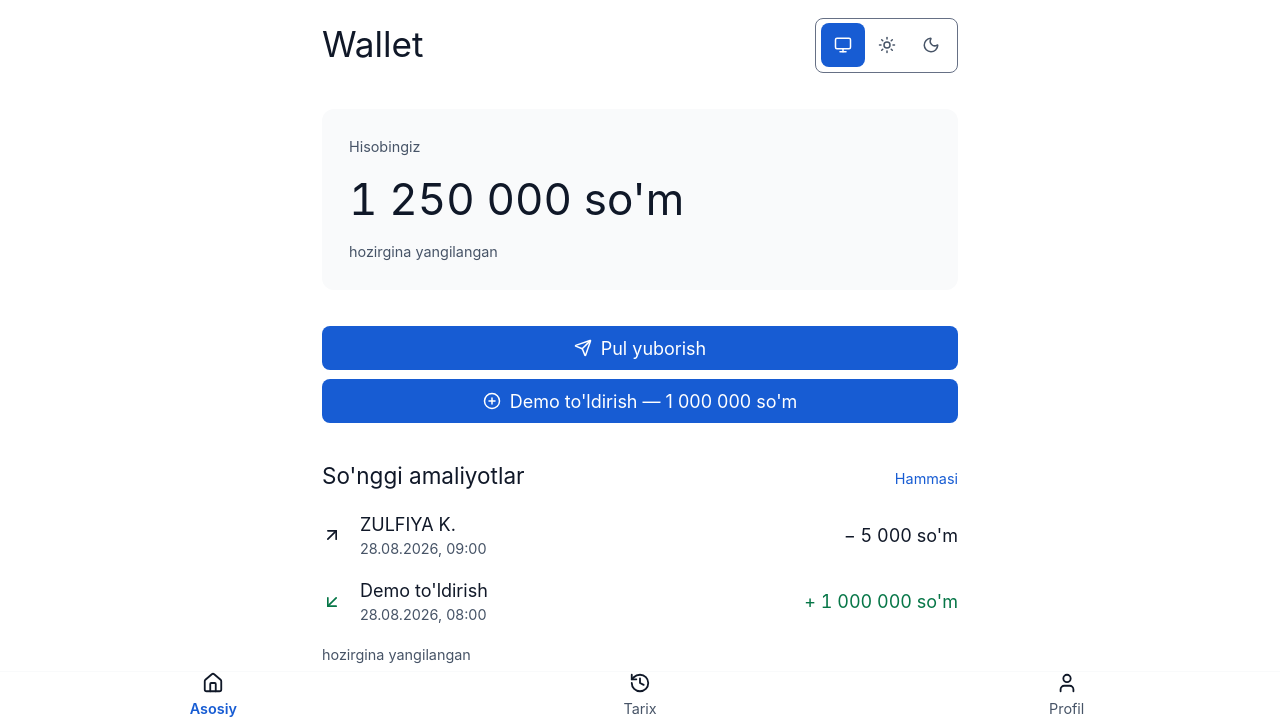
Test case: the demo top-up (FR-10, S-6) › says what a spent daily allowance means, not just that it failed
This screenshot has width=1280, height=720.
Click the button "Demo to'ldirish — 1 000 000 so'm" at (640,401), box top-left (322, 379), bottom-right (958, 423)
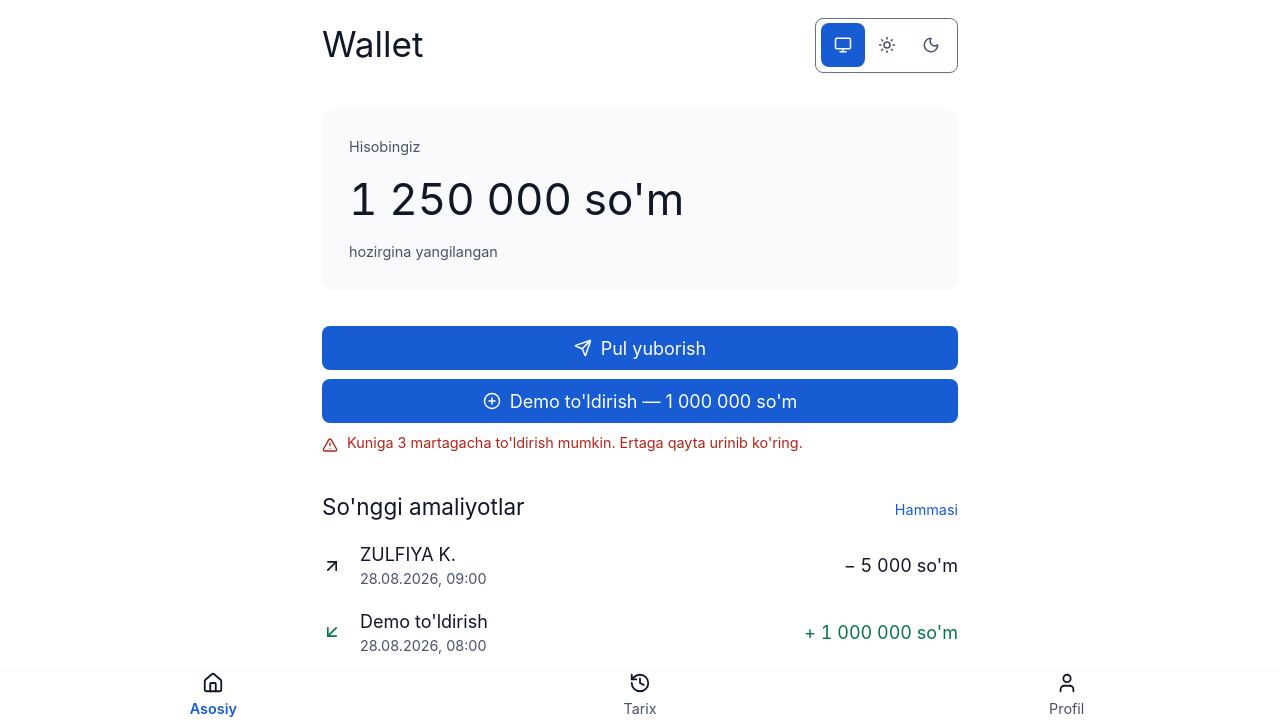
Check: the message shows "Ertaga", box top-left (347, 434), bottom-right (803, 451)
